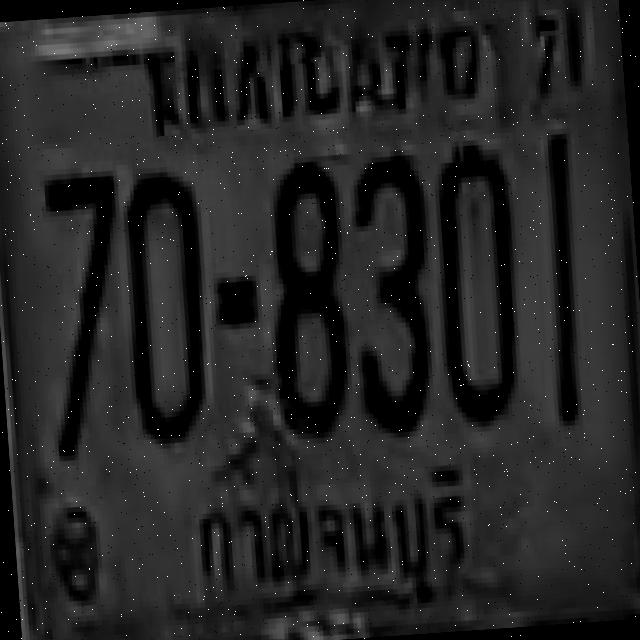0: (428, 138, 524, 424), (116, 168, 212, 442)
1: (539, 128, 584, 390)
3: (343, 149, 436, 434)
7: (36, 165, 132, 456)
8: (258, 155, 351, 435)
Kanchanaburi: (184, 449, 484, 622)
